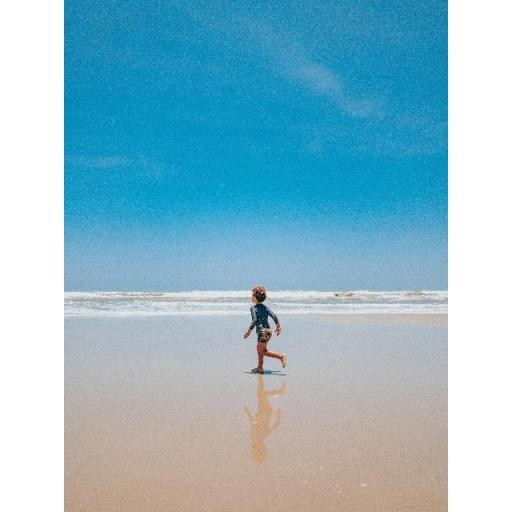Running: (233, 278, 294, 380)
